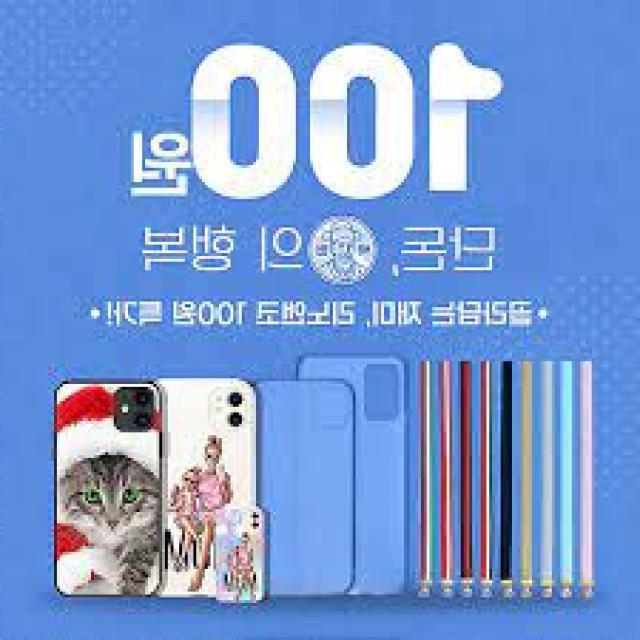mobile: (291, 354, 414, 611), (48, 372, 166, 603), (162, 363, 265, 604), (255, 375, 356, 607), (205, 503, 269, 609)
